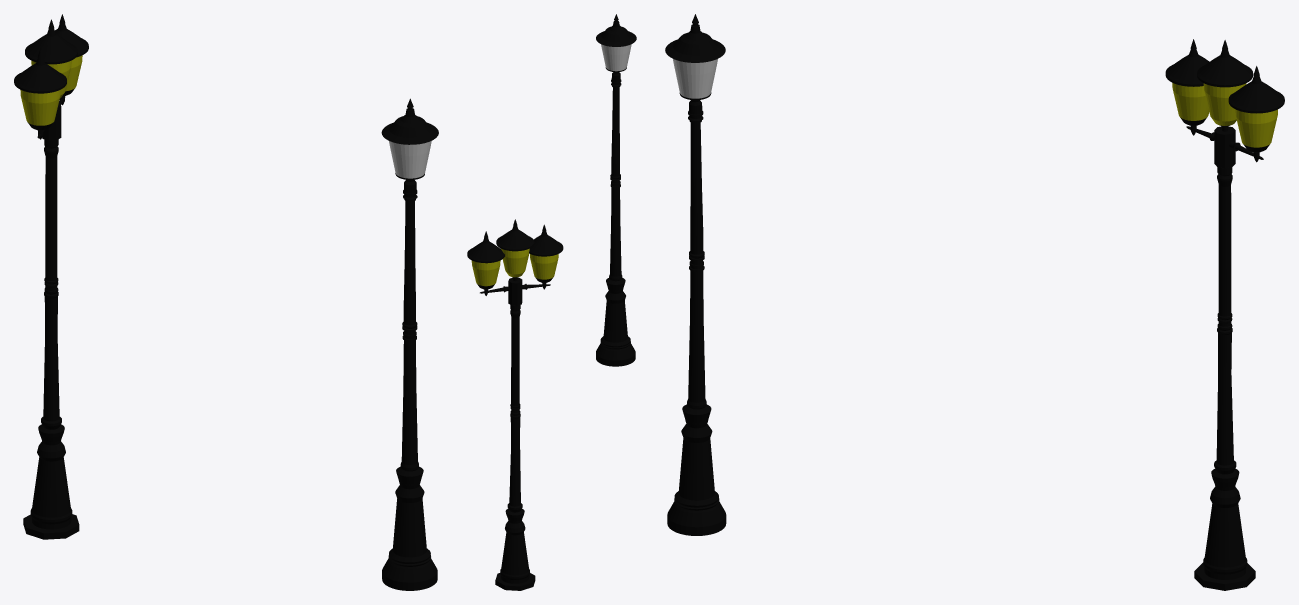
File: lamppost.obj
3 views of the same model, side by side, from view 1: azimuth 30°, elevation 25°; view 2: azimuth 150°, elevation 25°; view 3: azimuth 270°, elevation 25° (orthographic). The views are drawn at different scales.
Visible parts, largest first — view 1: Cylinder.001_Cylinder, Cylinder.002; view 2: Cylinder.001_Cylinder, Cylinder.002; view 3: Cylinder.001_Cylinder, Cylinder.002.
Boxes of the visible parts, bbox=[...] form: Cylinder.001_Cylinder: bbox=[14, 14, 88, 539]; Cylinder.002: bbox=[381, 98, 438, 590]; Cylinder.001_Cylinder: bbox=[467, 219, 563, 590]; Cylinder.002: bbox=[596, 14, 636, 366]; Cylinder.001_Cylinder: bbox=[1165, 39, 1284, 590]; Cylinder.002: bbox=[665, 14, 726, 535].
Bounding box in the file's own units: 0.7484 × 2.3 × 2.08.
